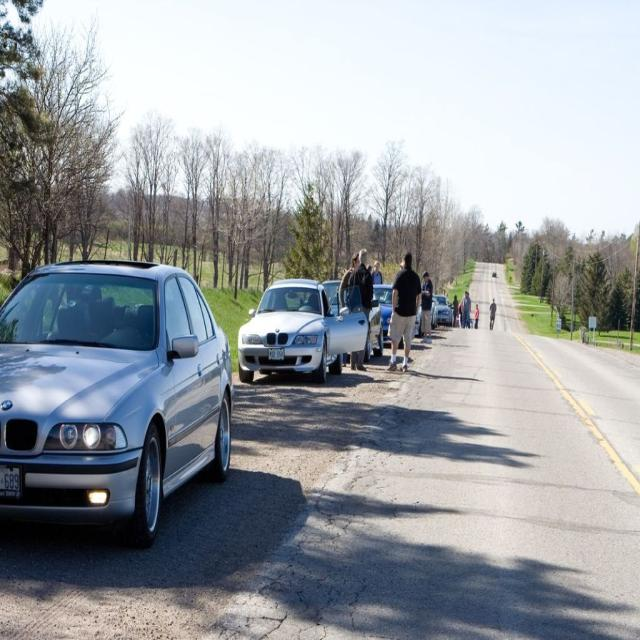car: (490, 270, 495, 275)
